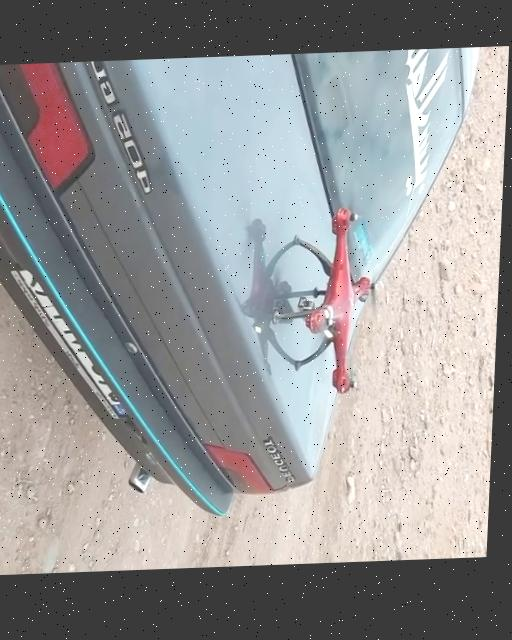drone: (271, 198, 388, 406)
